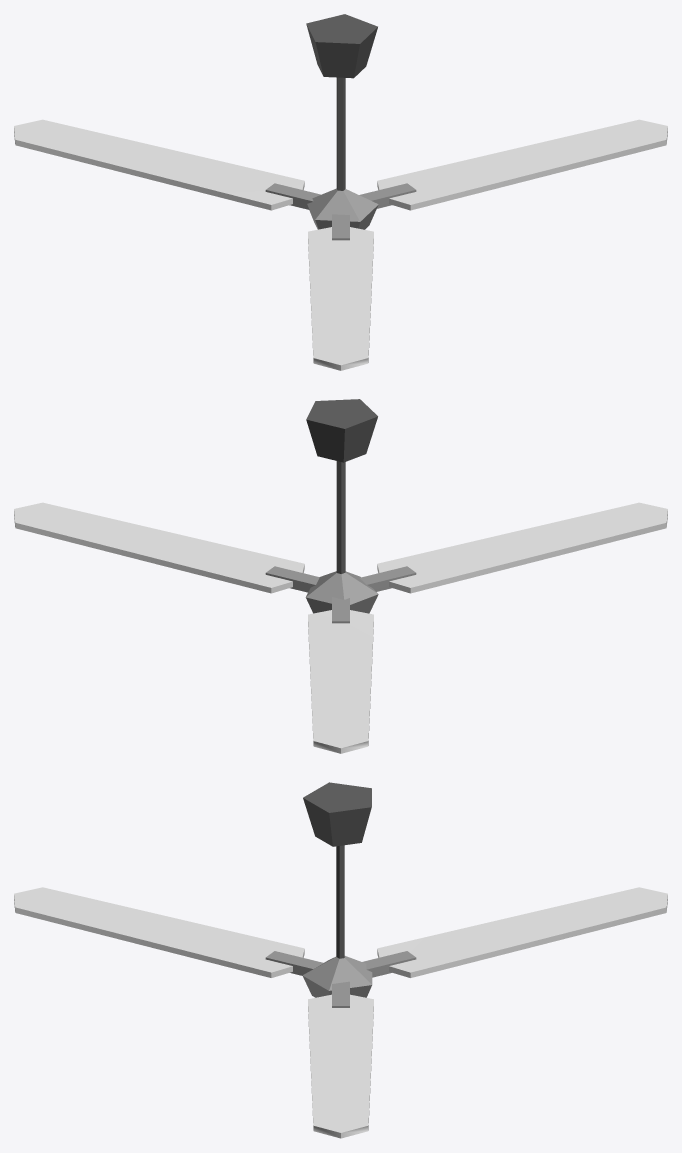
The model's file is lamp_018.glb.
3 renders of one model, top to bottom at view 1: azimuth 30°, elevation 25°; view 2: azimuth 150°, elevation 25°; view 3: azimuth 270°, elevation 25°, orthographic.
Parts seen in each view (by area): view 1: lamp_018; view 2: lamp_018; view 3: lamp_018.
Boxes of the visible parts, x1,y1,x2,y2 form: lamp_018: (14, 14, 667, 370); lamp_018: (14, 399, 667, 753); lamp_018: (14, 782, 667, 1138).
Size of the model in its own units: 0.9179 by 0.3448 by 1.03.
1 material, 1 textured.
